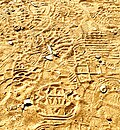human_foot_print: (12, 48, 44, 110), (44, 83, 73, 130), (74, 55, 107, 90), (39, 28, 74, 58)
